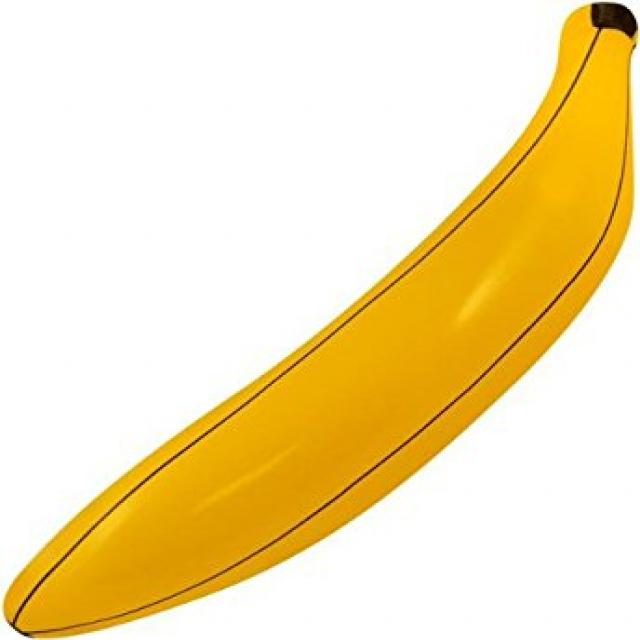banana: (8, 0, 635, 640)
